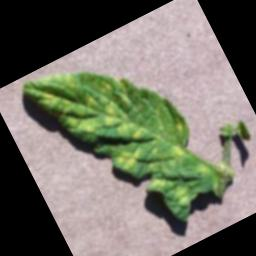Leaf_Mold: (18, 19, 236, 256)
